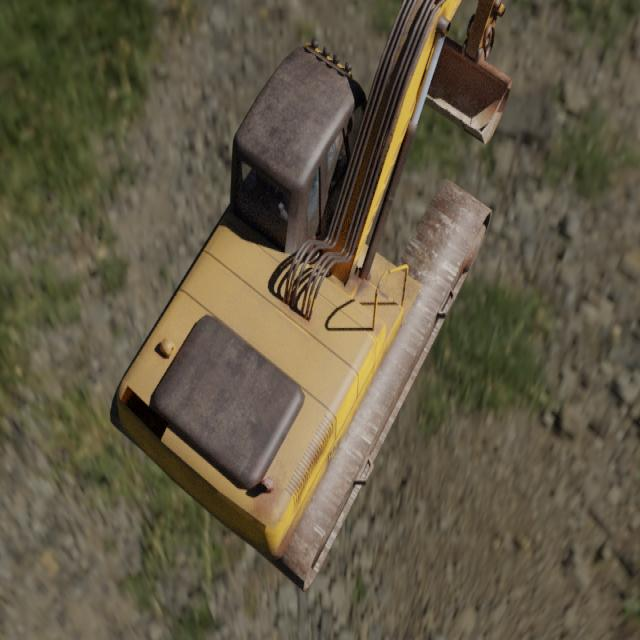excavator: (109, 0, 512, 593)
